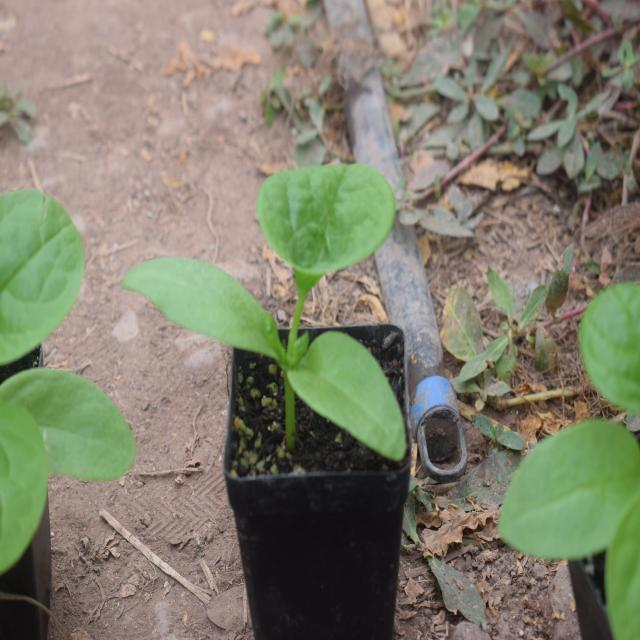Ceylon spinach: (136, 167, 414, 501)
